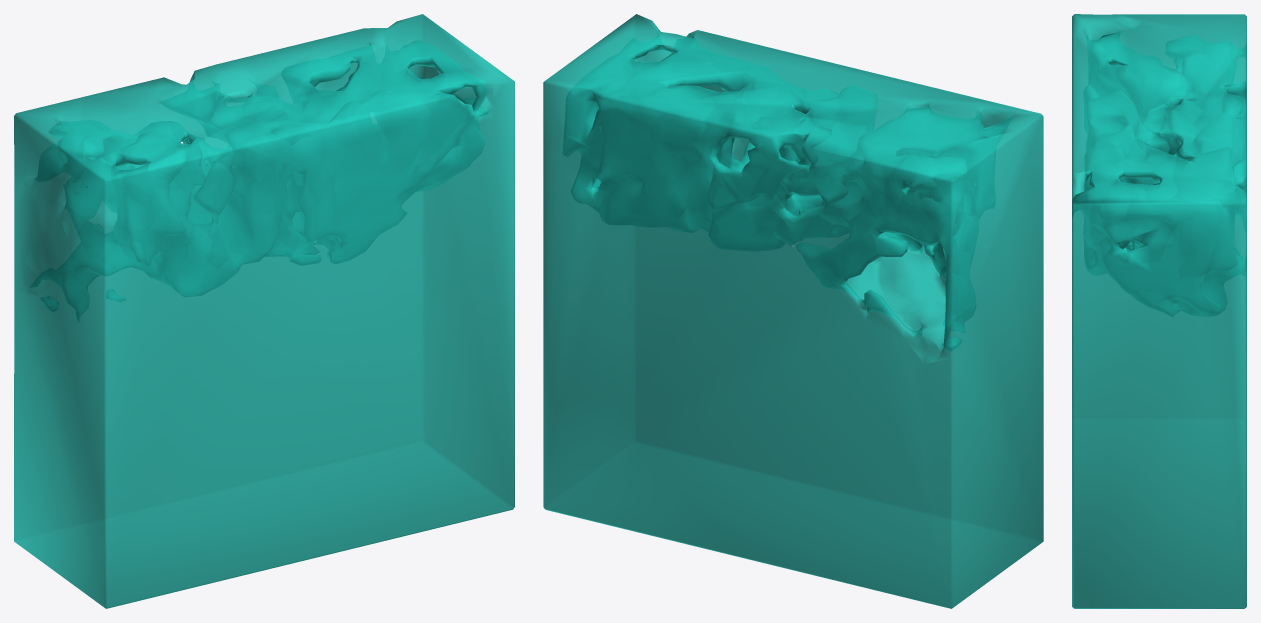
3 views of the same model, side by side, from view 1: azimuth 30°, elevation 25°; view 2: azimuth 150°, elevation 25°; view 3: azimuth 270°, elevation 25° (orthographic). The views are drawn at different scales.
Visible parts, largest first — view 1: Liquid_Domain; view 2: Liquid_Domain; view 3: Liquid_Domain.
Part boxes in pixels (x1=…): Liquid_Domain: x1=14, y1=14, x2=514, y2=608; Liquid_Domain: x1=543, y1=14, x2=1043, y2=608; Liquid_Domain: x1=1072, y1=14, x2=1246, y2=608.
Bounding box in the file's own units: 884 × 885 × 344.
